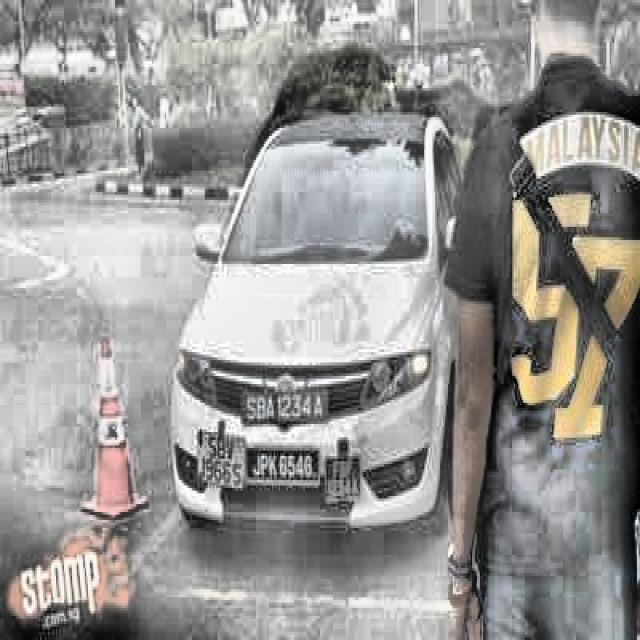license_plate: (241, 382, 331, 432), (194, 431, 242, 493), (246, 447, 318, 485), (324, 455, 364, 505)
